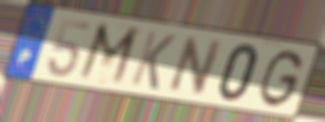0: (215, 42, 261, 104)
5: (45, 16, 93, 78)
G: (256, 48, 305, 110)
K: (128, 29, 178, 93)
M: (74, 20, 144, 90)
N: (164, 35, 226, 97)
